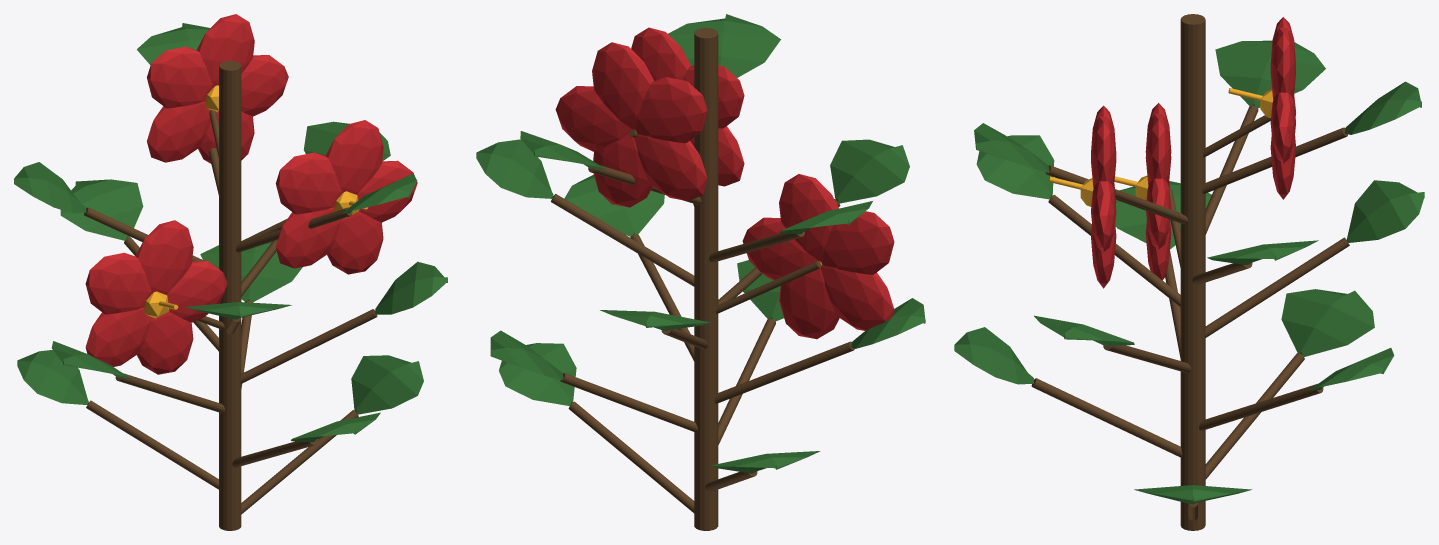
File: source-edit.glb
3 renders of one model, left to right at view 1: azimuth 30°, elevation 25°; view 2: azimuth 150°, elevation 25°; view 3: azimuth 270°, elevation 25°, orthographic. The views are drawn at different scales.
Parts seen in each view (by area): view 1: HIBISCUS_Stem, HIBISCUS_Leaf_0, HIBISCUS_Flower_1_Petal.003, HIBISCUS_Flower_0_Petal.003, HIBISCUS_Flower_2_Petal.003, HIBISCUS_Leaf_6, HIBISCUS_Flower_0_Petal.002, HIBISCUS_Flower_1_Petal.002, HIBISCUS_Flower_2_Petal.004, HIBISCUS_Flower_1_Petal.004, HIBISCUS_Flower_0_Petal.004, HIBISCUS_Leaf_1 (+24 smaller); view 2: HIBISCUS_Stem, HIBISCUS_Leaf_7, HIBISCUS_Flower_2_Petal.003, HIBISCUS_Leaf_10, HIBISCUS_Flower_2_Petal.002, HIBISCUS_Flower_2_Petal.004, HIBISCUS_Flower_1_Petal.003, HIBISCUS_Flower_1_Petal.004, HIBISCUS_Flower_2_Petal.001, HIBISCUS_Leaf_8, HIBISCUS_Flower_1_Petal, HIBISCUS_Flower_1_Petal.002 (+23 smaller); view 3: HIBISCUS_Stem, HIBISCUS_Leaf_1, HIBISCUS_Leaf_9, HIBISCUS_Leaf_6, HIBISCUS_Leaf_7, HIBISCUS_Leaf_2, HIBISCUS_Leaf_11, HIBISCUS_Branch.006, HIBISCUS_Branch.002, HIBISCUS_Leaf_10, HIBISCUS_Leaf_4, HIBISCUS_Flower_2_Petal.001 (+23 smaller).
Boxes of the visible parts, x1,y1,x2,y2 form: HIBISCUS_Stem: (219,61,241,530); HIBISCUS_Leaf_0: (351,355,423,414); HIBISCUS_Flower_1_Petal.003: (85,252,151,314); HIBISCUS_Flower_0_Petal.003: (275,152,341,214); HIBISCUS_Flower_2_Petal.003: (147,46,212,108); HIBISCUS_Leaf_6: (60,179,143,240); HIBISCUS_Flower_0_Petal.002: (325,120,383,194); HIBISCUS_Flower_1_Petal.002: (135,220,193,294); HIBISCUS_Flower_2_Petal.004: (147,101,210,162); HIBISCUS_Flower_1_Petal.004: (85,307,151,366); HIBISCUS_Flower_0_Petal.004: (276,207,341,268); HIBISCUS_Leaf_1: (17,350,88,404); HIBISCUS_Stem: (694,28,718,530); HIBISCUS_Leaf_7: (830,139,909,203); HIBISCUS_Flower_2_Petal.003: (635,77,707,143); HIBISCUS_Leaf_10: (668,14,780,77); HIBISCUS_Flower_2_Petal.002: (592,42,653,129); HIBISCUS_Flower_2_Petal.004: (634,134,707,200); HIBISCUS_Flower_1_Petal.003: (821,211,894,274); HIBISCUS_Flower_1_Petal.004: (821,264,894,330); HIBISCUS_Flower_2_Petal.001: (555,86,631,151); HIBISCUS_Leaf_8: (476,139,553,198); HIBISCUS_Flower_1_Petal: (779,268,839,339); HIBISCUS_Flower_1_Petal.002: (779,174,838,261); HIBISCUS_Stem: (1180,14,1205,530); HIBISCUS_Leaf_1: (1281,289,1374,356); HIBISCUS_Leaf_9: (1215,40,1325,108); HIBISCUS_Leaf_6: (1346,180,1424,242); HIBISCUS_Leaf_7: (976,135,1054,199); HIBISCUS_Leaf_2: (954,327,1034,384); HIBISCUS_Leaf_11: (1344,81,1421,134); HIBISCUS_Branch.006: (1205,237,1349,337); HIBISCUS_Branch.002: (1031,378,1182,457); HIBISCUS_Leaf_10: (974,123,1049,172); HIBISCUS_Leaf_4: (1115,181,1211,249); HIBISCUS_Flower_2_Petal.001: (1270,92,1295,163).
Size of the model in its own units: 0.9528 by 1.14 by 0.942.
